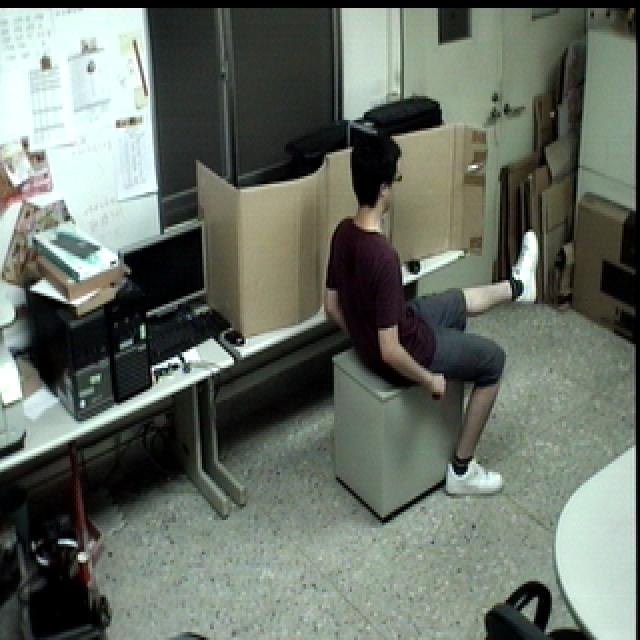sit: (316, 121, 548, 506)
